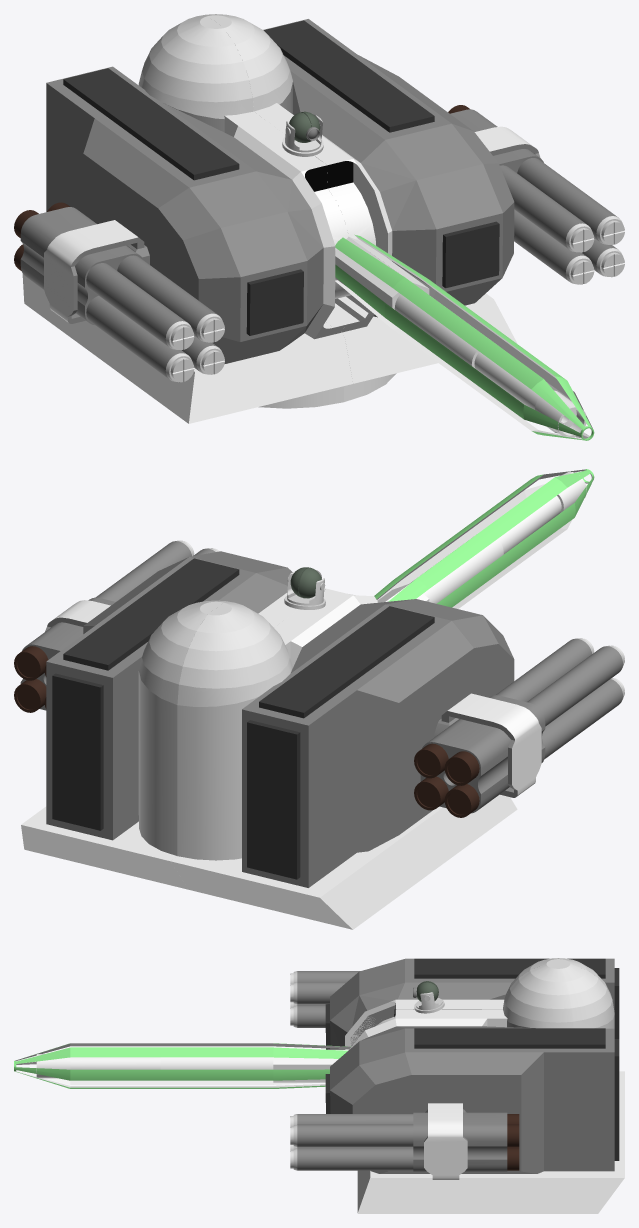
3 views of the same model, one above another, from view 1: azimuth 30°, elevation 25°; view 2: azimuth 150°, elevation 25°; view 3: azimuth 270°, elevation 25° (orthographic). The views are drawn at different scales.
Visible parts, largest first — view 1: Group_001, Group_004, Group_015, Group_012, Group_002, Group_013, Group_014, Group_016, Group_011, Group_009; view 2: Group_001, Group_012, Group_015, Group_004, Group_013, Group_002, Group_009, Group_011; view 3: Group_001, Group_013, Group_002, Group_012, Group_004, Group_015, Group_011, Group_016, Group_014.
Part boxes in pixels (x1,y1,x2,y2): Group_001: [21, 19, 517, 423]; Group_004: [224, 111, 587, 440]; Group_015: [14, 202, 217, 379]; Group_012: [138, 14, 292, 118]; Group_002: [253, 103, 594, 440]; Group_013: [448, 105, 618, 281]; Group_014: [565, 216, 624, 284]; Group_016: [165, 313, 224, 382]; Group_011: [282, 114, 323, 156]; Group_009: [289, 111, 320, 142]; Group_001: [21, 551, 517, 929]; Group_012: [138, 600, 292, 860]; Group_015: [414, 638, 622, 817]; Group_004: [274, 469, 594, 667]; Group_013: [14, 541, 215, 712]; Group_002: [257, 469, 587, 627]; Group_009: [290, 567, 321, 598]; Group_011: [284, 571, 325, 609]; Group_001: [325, 958, 624, 1213]; Group_013: [297, 1103, 519, 1179]; Group_002: [14, 1009, 507, 1088]; Group_012: [503, 958, 614, 1028]; Group_004: [14, 999, 504, 1084]; Group_015: [297, 971, 360, 1027]; Group_011: [414, 992, 444, 1013]; Group_016: [290, 971, 297, 1027]; Group_014: [290, 1114, 297, 1170].
Bounding box in the file's own units: 69.06 × 40.38 × 107.
